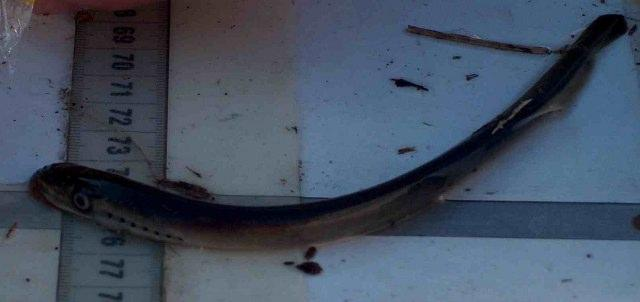Sirip Ekor: (542, 3, 636, 106)
